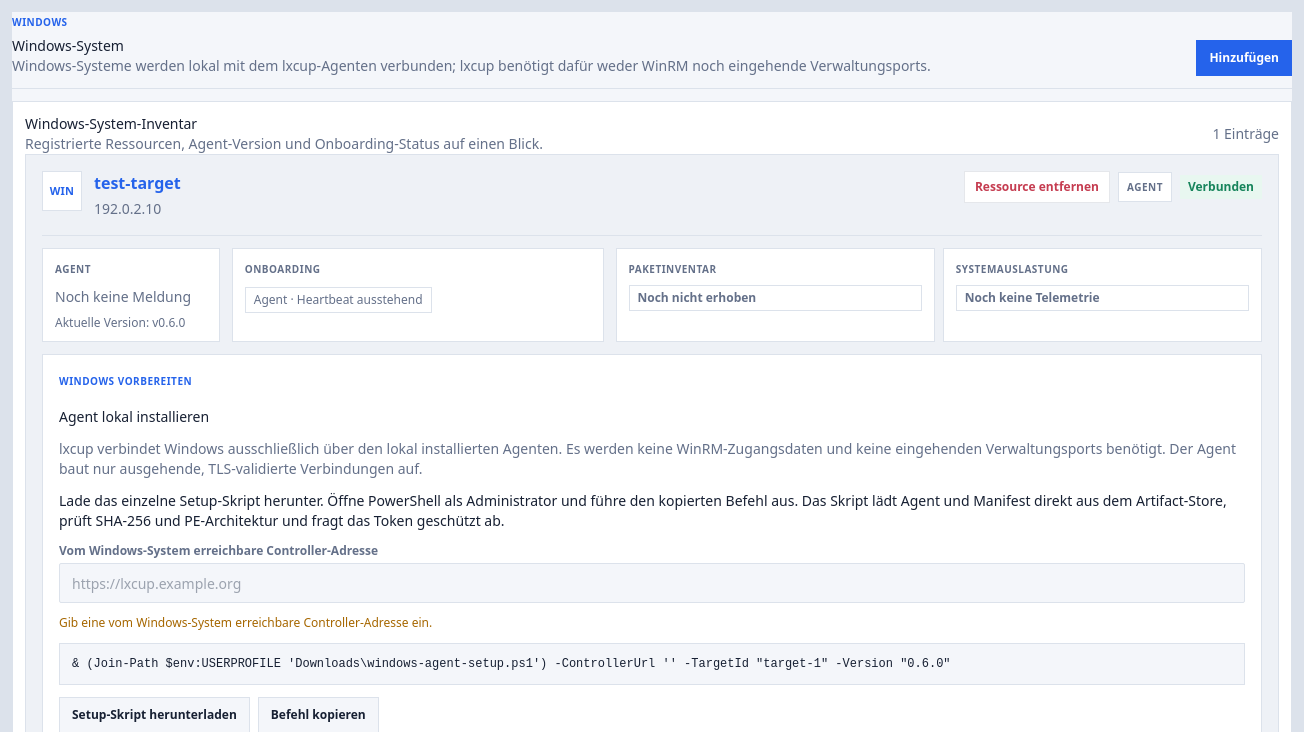
Scenario: onboarding and secret pages › shows the parameterized setup action and explains loopback controller addresses
Expected: the text "Gib eine vom Windows-System erreichbare Controller-Adresse ein" is shown, [59, 614, 432, 631]
Expected: the button "Befehl kopieren" is shown, [258, 697, 379, 731]
Type "https://lxcup.example.test" into the field labelled "Vom Windows-System erreichbare Controller-Adresse" at (652,583), box [59, 563, 1245, 603]
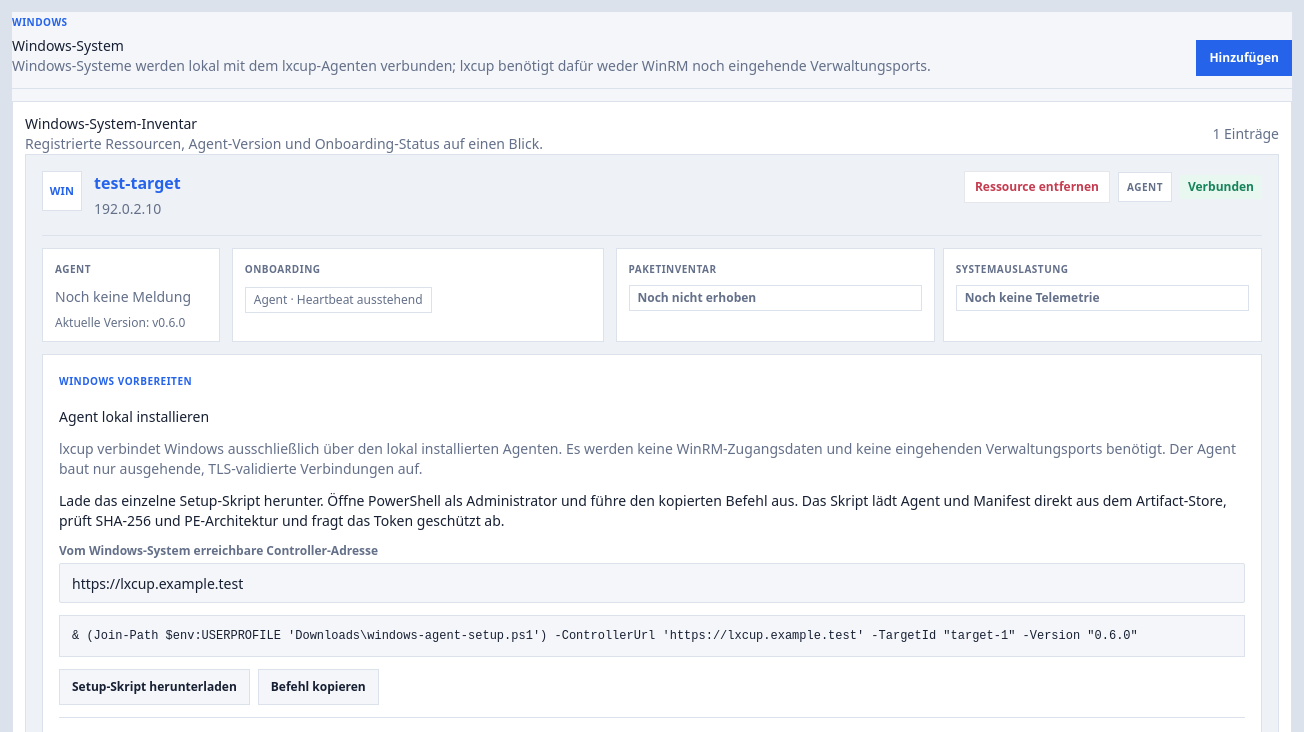
Expected: the text "-AgentToken" is not shown, [59, 615, 1245, 657]
Expected: the text "Downloads\\windows-agent-setup.ps1" shows "https://lxcup.example.test", [72, 629, 1138, 643]
Replace the text in the field labelled "Vom Windows-System erreichbare Controller-Adresse" with "https://localhost" at (652,583), box [59, 563, 1245, 603]
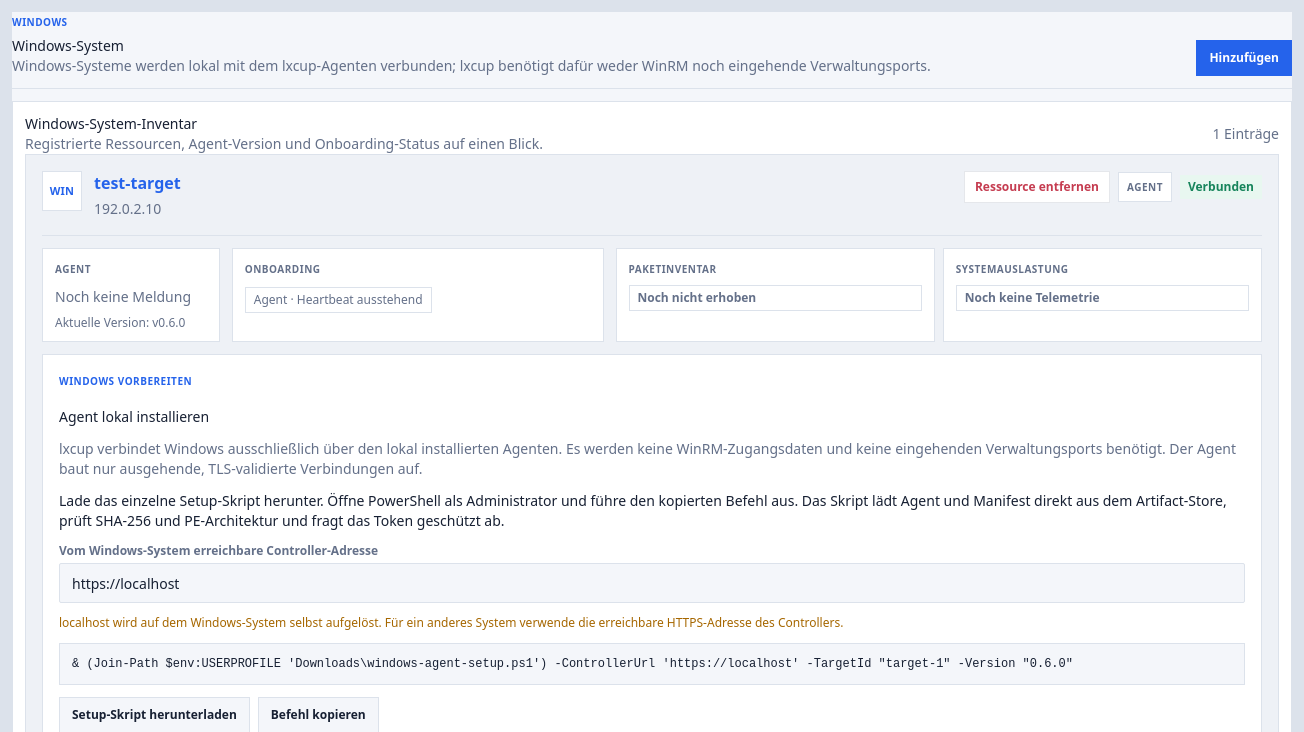
Expected: the button "Befehl kopieren" is shown, [258, 697, 379, 731]
Expected: the text "localhost wird auf dem Windows-System selbst aufgelöst" is shown, [59, 614, 843, 631]
Replace the text in the field labelled "Vom Windows-System erreichbare Controller-Adresse" with "https://lxcup.example.test/o'hare" at (652,583), box [59, 563, 1245, 603]
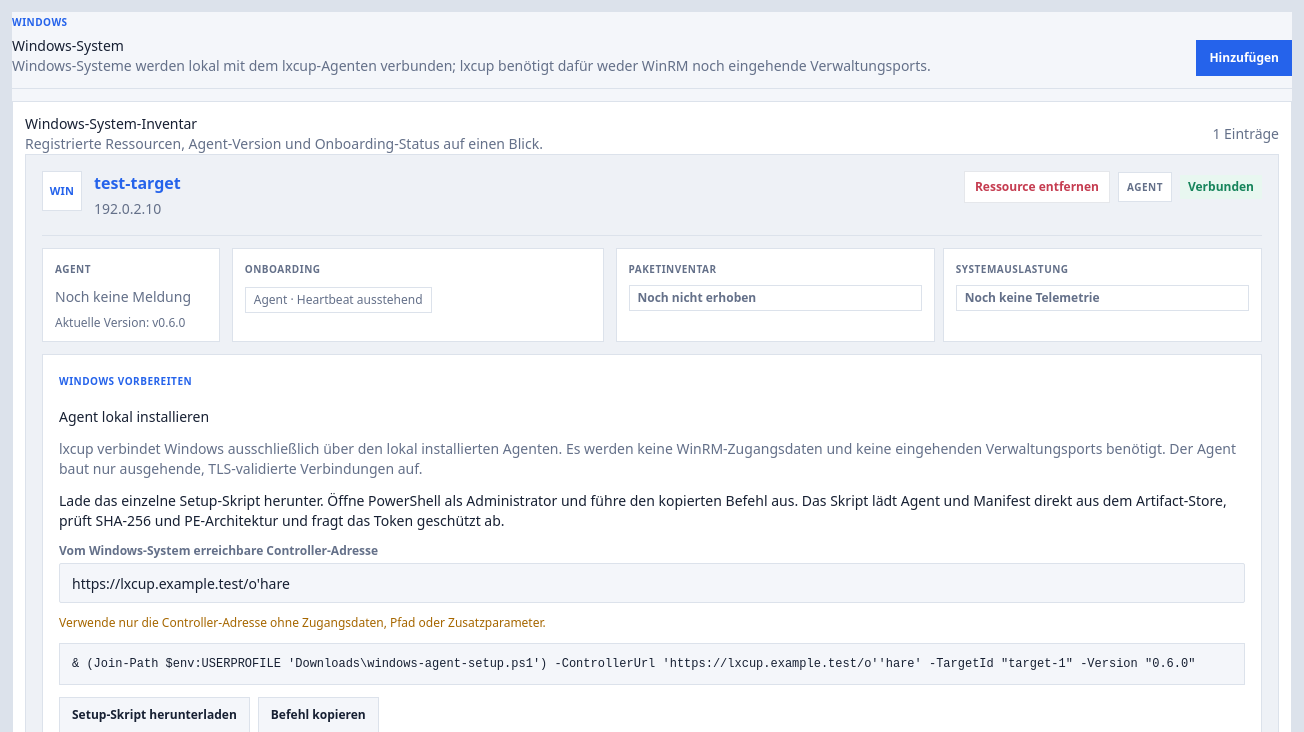
Expected: the text "-ControllerUrl 'https://lxcup.example.test/o''hare'" is shown, [72, 657, 1195, 671]
